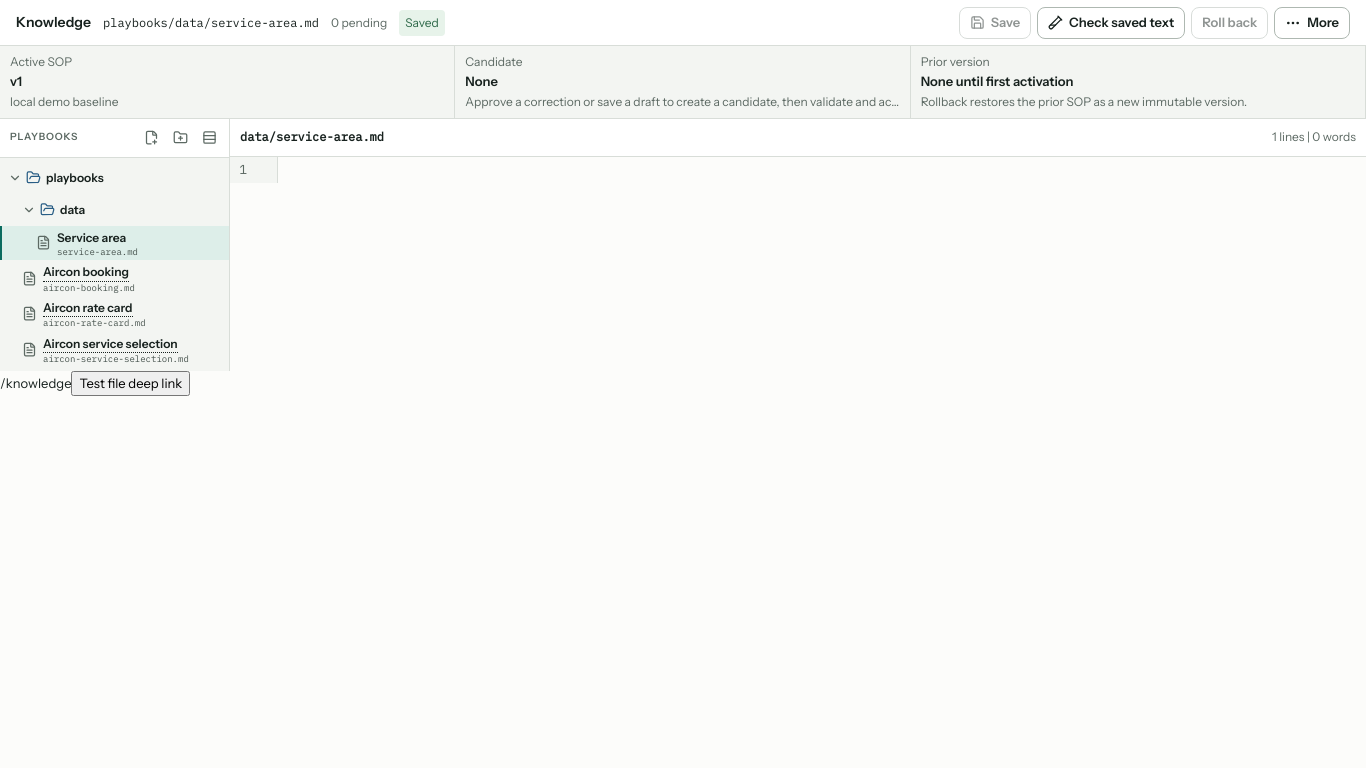
Scenario: Knowledge route › restores a selected nested file with its folder expanded
Click the button named "New playbook file": [151, 138] box x1=137 y1=124 x2=165 y2=152
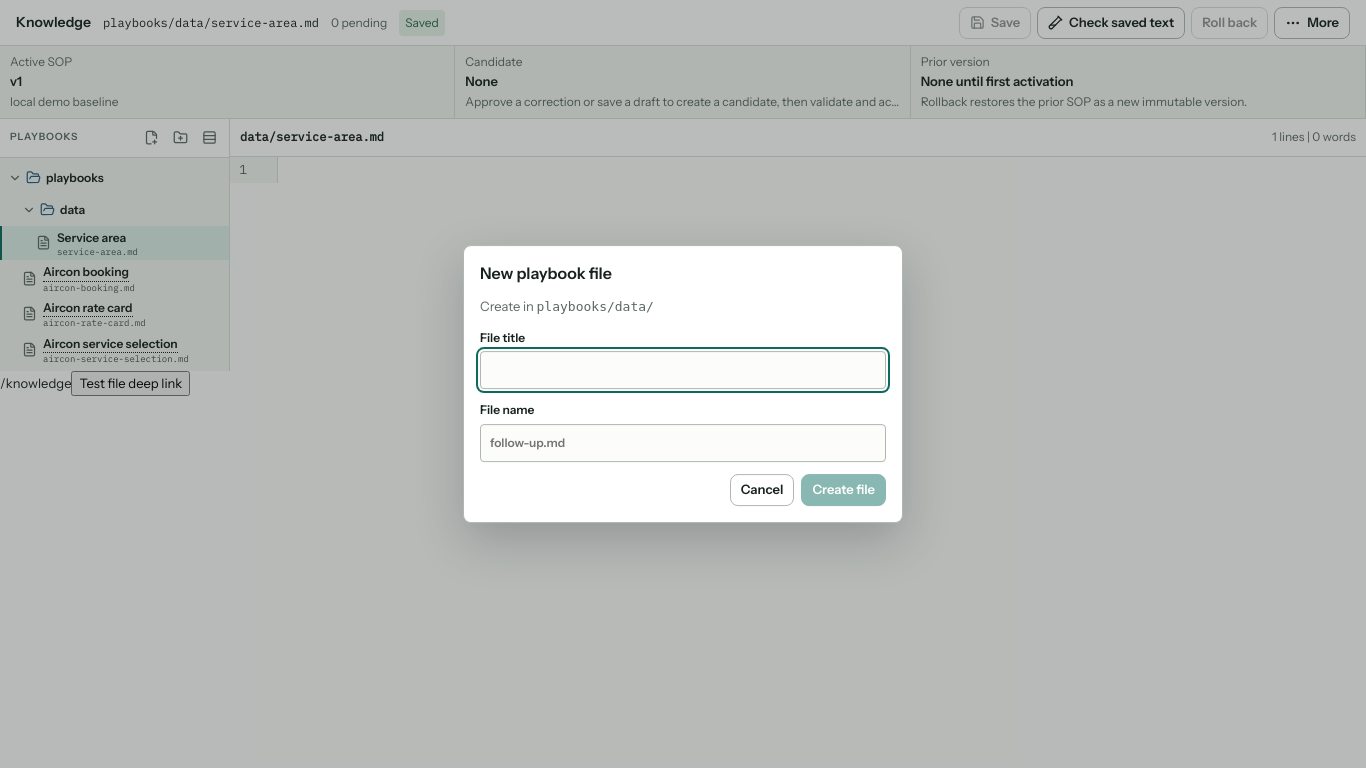
Expected: the dialog "New playbook file" shows "Create in playbooks/data/", x1=463 y1=245 x2=903 y2=523
Expected: the field labelled "File name" is empty, x1=480 y1=424 x2=886 y2=462
